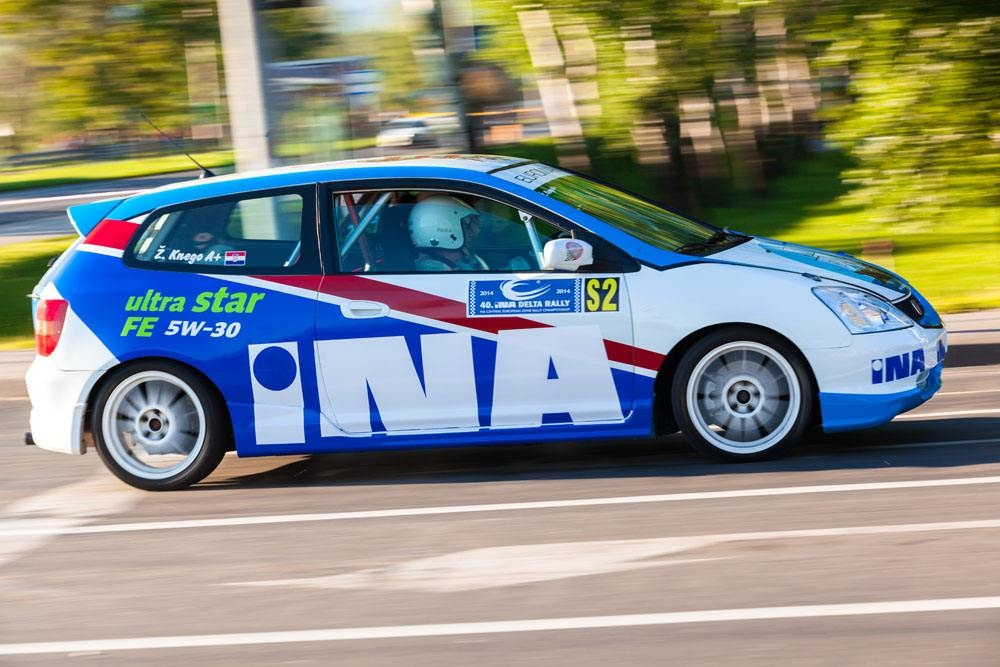racing car: (33, 149, 948, 478)
